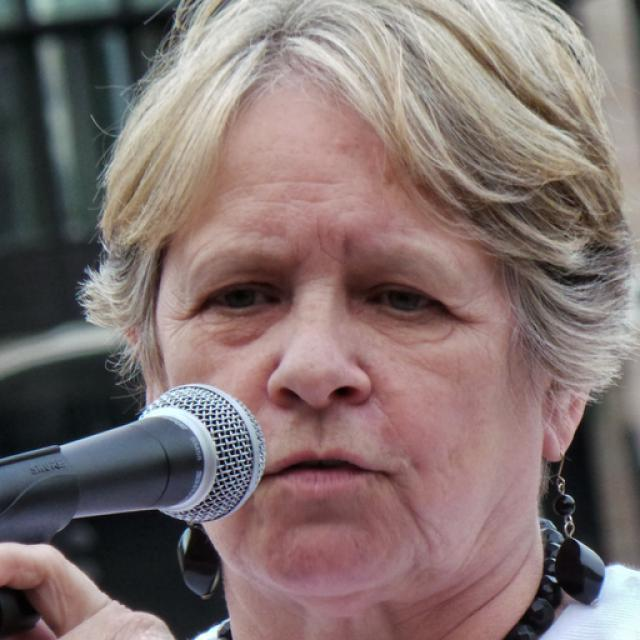anger: (153, 106, 546, 609)
